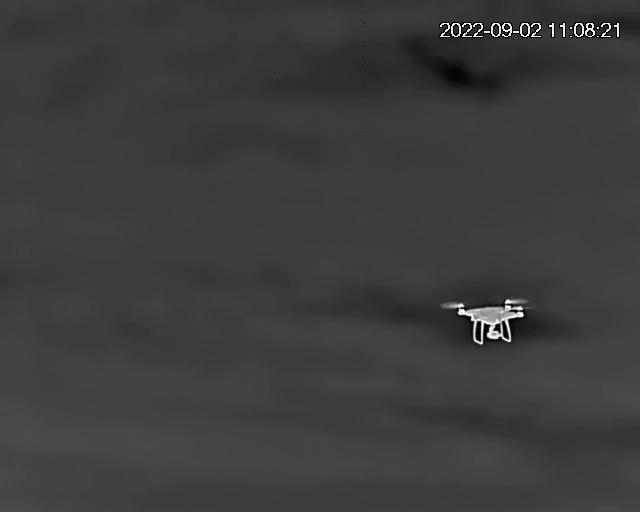DJI-Phantom: (446, 297, 530, 347)
